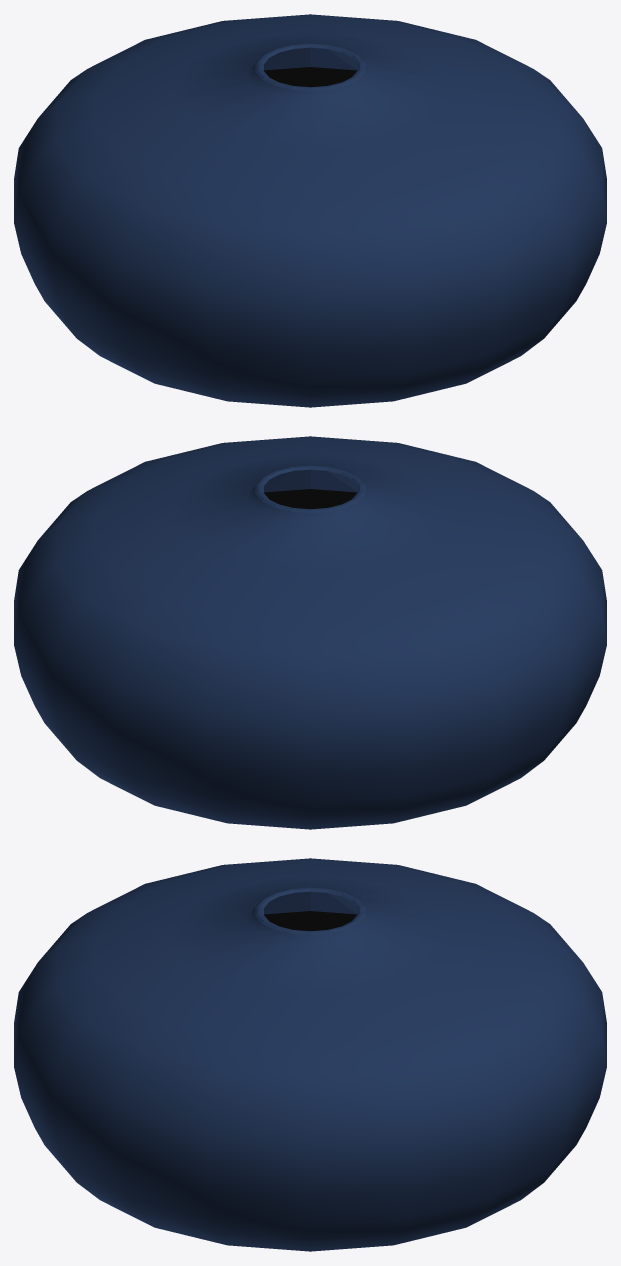
Rendered from vase8.FBX.
The picture shows the model from 3 angles, top to bottom: view 1: azimuth 30°, elevation 25°; view 2: azimuth 150°, elevation 25°; view 3: azimuth 270°, elevation 25°; orthographic projection.
Visible parts, largest first — view 1: vase8; view 2: vase8; view 3: vase8.
Part boxes in pixels (x1,y1,x2,y2): vase8: [14, 14, 606, 407]; vase8: [14, 436, 606, 829]; vase8: [14, 858, 606, 1251].
Size of the model in its own units: 10.28 by 10.13 by 4.89.
Materials: 1 (1 with a texture image).
